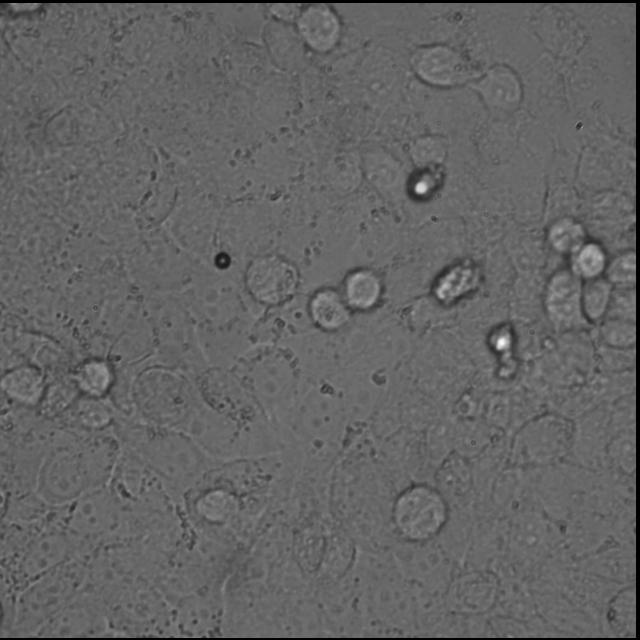microbeads: (213, 250, 229, 270)
